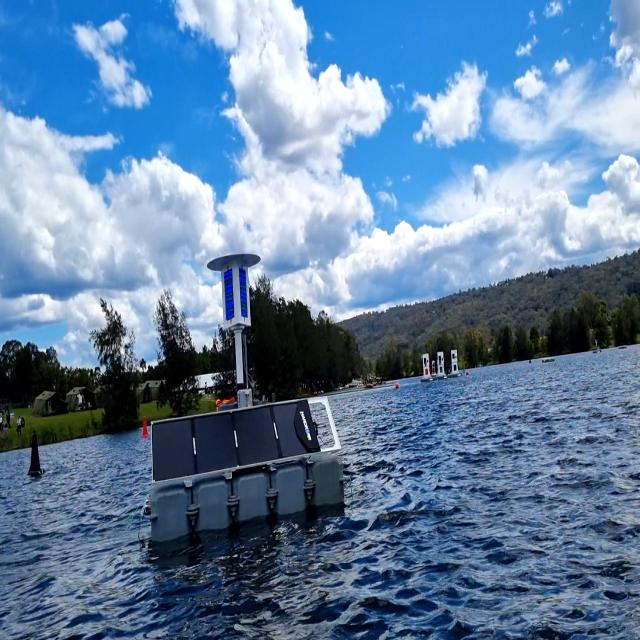led: (224, 271, 236, 320), (238, 266, 247, 319)
